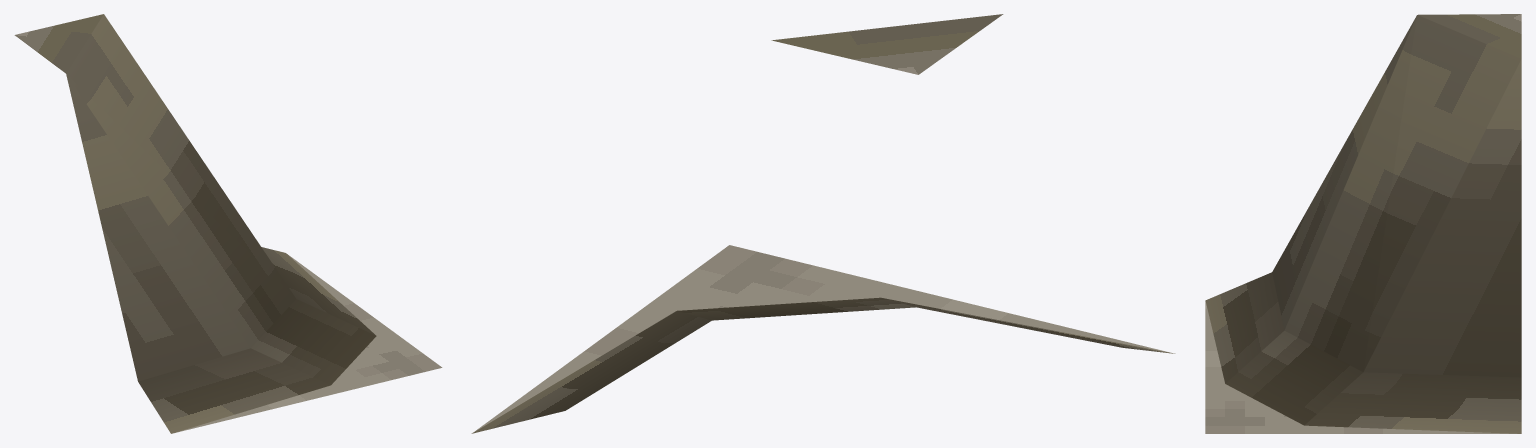
3 renders of one model, left to right at view 1: azimuth 30°, elevation 25°; view 2: azimuth 150°, elevation 25°; view 3: azimuth 270°, elevation 25°, orthographic. The views are drawn at different scales.
Size of the model in its own units: 1 by 1 by 1.
Materials: 2 (2 with a texture image).
